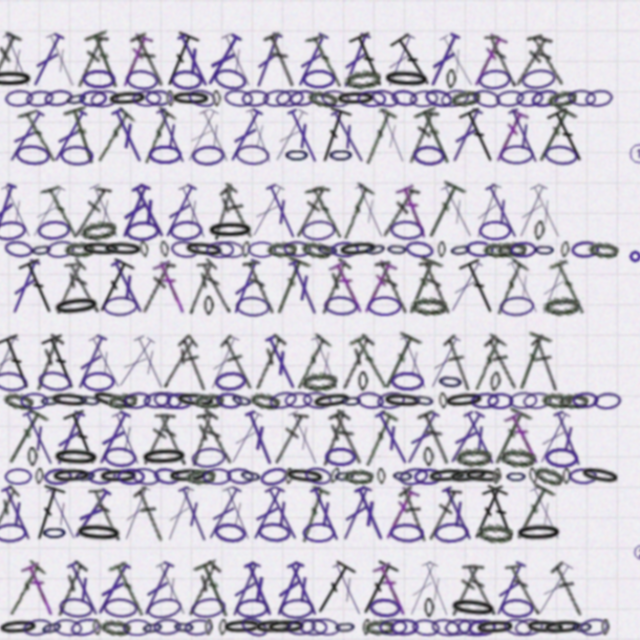chain: (70, 280, 118, 304), (448, 568, 496, 591), (106, 369, 148, 395), (91, 497, 139, 519), (385, 65, 432, 86), (154, 425, 201, 446), (572, 442, 614, 465), (70, 426, 117, 446), (511, 498, 558, 518), (96, 207, 133, 232), (7, 66, 54, 85), (217, 210, 264, 229), (223, 63, 258, 88), (447, 443, 488, 464), (348, 64, 385, 87), (160, 568, 195, 592), (195, 228, 236, 248), (317, 372, 358, 392), (291, 444, 332, 464), (517, 64, 552, 87), (76, 568, 111, 591), (202, 568, 237, 591), (56, 352, 90, 375), (342, 228, 383, 247), (67, 372, 108, 391), (187, 372, 228, 391), (443, 372, 484, 391), (427, 444, 468, 463), (248, 585, 279, 610), (538, 281, 574, 302), (307, 353, 343, 374), (454, 425, 490, 446), (14, 353, 48, 375), (203, 425, 237, 447), (122, 85, 163, 103), (18, 589, 59, 607), (537, 589, 578, 607), (528, 442, 560, 465), (140, 65, 173, 87), (539, 137, 572, 159), (14, 209, 47, 231), (224, 497, 257, 519), (385, 373, 425, 391), (496, 426, 532, 446), (462, 445, 502, 463), (473, 589, 513, 607), (521, 589, 561, 607), (35, 137, 69, 158), (392, 209, 426, 230), (329, 281, 363, 302), (434, 497, 468, 518), (119, 569, 153, 590), (475, 498, 510, 518), (476, 65, 509, 86), (245, 137, 278, 158), (56, 209, 89, 230), (182, 209, 215, 230), (308, 209, 341, 230), (119, 425, 152, 446), (266, 497, 299, 518), (541, 83, 572, 105), (97, 229, 137, 246), (118, 229, 158, 246), (245, 282, 279, 302), (69, 445, 109, 462), (180, 445, 220, 462), (287, 570, 321, 590), (232, 589, 272, 606), (262, 589, 302, 606), (274, 589, 314, 606), (225, 353, 257, 374), (372, 569, 404, 590), (412, 282, 447, 301), (373, 83, 403, 105), (470, 83, 500, 105), (203, 138, 236, 158), (140, 210, 173, 230), (119, 282, 152, 302), (497, 282, 530, 302), (267, 443, 297, 465), (392, 498, 425, 518), (245, 570, 278, 590), (449, 83, 480, 104), (183, 66, 215, 86), (183, 86, 223, 102), (340, 86, 380, 102), (78, 138, 110, 158), (414, 138, 446, 158), (540, 426, 572, 446), (114, 446, 154, 462), (15, 498, 47, 518), (498, 570, 530, 590), (424, 83, 454, 104), (276, 371, 306, 392), (87, 587, 117, 608), (497, 138, 530, 157), (371, 282, 404, 301), (313, 84, 344, 104), (307, 228, 338, 248), (23, 372, 54, 392), (122, 372, 153, 392), (258, 372, 289, 392), (199, 83, 228, 104), (440, 83, 469, 104), (526, 83, 555, 104), (310, 443, 339, 464), (99, 66, 131, 85), (309, 66, 341, 85), (162, 138, 194, 157), (477, 210, 509, 229), (99, 354, 131, 373), (393, 354, 425, 373), (309, 498, 341, 517), (326, 84, 356, 104), (400, 444, 430, 464), (42, 588, 72, 608), (431, 588, 461, 608), (330, 426, 361, 445), (106, 84, 135, 104), (226, 228, 255, 248), (406, 228, 435, 248), (145, 444, 174, 464), (500, 588, 529, 608), (437, 353, 464, 374), (166, 444, 194, 464), (62, 84, 91, 103), (234, 84, 263, 103), (24, 228, 53, 247), (64, 228, 93, 247), (166, 372, 195, 391), (309, 372, 338, 391), (379, 372, 408, 391), (294, 588, 323, 607), (317, 588, 346, 607), (581, 229, 611, 247), (205, 373, 235, 391), (197, 445, 227, 463), (116, 589, 146, 607), (271, 84, 299, 103), (283, 84, 311, 103), (296, 84, 324, 103), (512, 84, 540, 103), (578, 84, 606, 103), (183, 228, 211, 247), (138, 372, 166, 391), (157, 372, 185, 391), (360, 372, 388, 391), (444, 588, 472, 607), (511, 588, 539, 607), (573, 588, 601, 607), (239, 371, 264, 392), (71, 589, 100, 607), (393, 84, 420, 103), (45, 85, 73, 103), (411, 85, 439, 103), (493, 85, 521, 103), (469, 373, 497, 391), (519, 373, 547, 391), (586, 373, 614, 391), (62, 445, 90, 463), (236, 445, 264, 463), (196, 589, 224, 607), (413, 589, 441, 607), (456, 589, 484, 607), (466, 589, 494, 607), (58, 588, 83, 608), (291, 138, 317, 157), (333, 138, 359, 157), (60, 498, 86, 517), (82, 229, 111, 246), (275, 229, 304, 246), (494, 229, 523, 246), (537, 373, 566, 390), (368, 589, 397, 606), (226, 373, 253, 391), (82, 84, 106, 104), (25, 85, 53, 102), (464, 229, 492, 246), (104, 445, 132, 462), (481, 230, 510, 246), (553, 374, 582, 390), (348, 446, 377, 462), (96, 85, 123, 102), (159, 85, 186, 102), (251, 85, 278, 102), (562, 85, 589, 102), (291, 229, 318, 246), (565, 229, 592, 246), (292, 373, 319, 390), (506, 373, 533, 390), (167, 589, 194, 606), (306, 589, 333, 606), (382, 589, 409, 606), (393, 589, 420, 606), (367, 228, 391, 247), (95, 372, 119, 391), (413, 372, 437, 391), (248, 444, 272, 463), (147, 86, 175, 102), (361, 86, 389, 102), (214, 446, 242, 462), (138, 590, 166, 606), (566, 373, 592, 390), (217, 230, 244, 246), (257, 230, 284, 246), (336, 230, 363, 246), (448, 229, 472, 247), (40, 374, 67, 390), (25, 446, 52, 462), (132, 446, 159, 462), (415, 446, 442, 462), (563, 446, 590, 462), (507, 230, 533, 246), (179, 374, 205, 390), (485, 374, 511, 390), (49, 229, 72, 247), (322, 229, 345, 247), (155, 589, 178, 607), (388, 229, 411, 246), (58, 373, 81, 390), (91, 445, 114, 462), (338, 445, 361, 462), (185, 589, 208, 606), (394, 445, 416, 462), (339, 589, 361, 606), (565, 589, 587, 606), (529, 230, 551, 246), (345, 374, 367, 390), (502, 446, 524, 462), (529, 210, 541, 230), (487, 354, 499, 374), (424, 426, 435, 445), (334, 445, 346, 462), (446, 66, 456, 85), (215, 282, 225, 301), (362, 354, 372, 373), (47, 426, 57, 445), (425, 570, 435, 589), (153, 229, 164, 246), (524, 445, 535, 462), (173, 229, 183, 246), (179, 86, 188, 102), (223, 86, 232, 102), (251, 230, 260, 246), (555, 230, 564, 246), (439, 374, 448, 390), (54, 446, 63, 462), (292, 446, 301, 462), (380, 446, 389, 462), (490, 446, 499, 462), (109, 590, 118, 606), (229, 590, 238, 606), (366, 590, 375, 606), (438, 230, 446, 246), (557, 446, 565, 462), (216, 590, 224, 606), (594, 590, 602, 606)
double: (391, 29, 440, 87), (21, 388, 68, 447), (315, 532, 362, 591), (526, 100, 572, 159), (505, 460, 551, 519), (421, 172, 466, 231), (379, 316, 424, 375), (484, 388, 529, 447), (358, 532, 403, 591), (415, 100, 459, 160), (106, 101, 152, 158), (541, 100, 585, 159), (107, 244, 151, 303), (205, 532, 248, 592), (127, 318, 173, 374), (85, 462, 131, 518), (22, 533, 67, 590), (352, 28, 395, 87), (457, 100, 500, 159), (37, 244, 80, 303), (457, 244, 500, 303), (464, 460, 507, 519), (443, 389, 487, 446), (101, 28, 143, 87), (171, 28, 213, 87), (276, 244, 318, 303), (402, 244, 444, 303), (59, 316, 101, 375), (23, 102, 67, 158), (527, 534, 571, 590), (212, 29, 255, 86), (37, 101, 80, 158), (254, 173, 297, 230), (443, 245, 486, 302), (296, 317, 339, 374), (352, 317, 395, 374), (107, 533, 150, 590), (311, 29, 353, 87), (59, 173, 101, 231), (311, 173, 353, 231), (360, 389, 402, 447), (17, 316, 58, 375), (507, 316, 548, 375), (80, 388, 121, 447), (479, 460, 520, 519), (436, 30, 479, 86), (192, 101, 234, 158), (276, 101, 318, 158), (374, 389, 416, 446), (402, 389, 444, 446), (213, 461, 255, 518), (269, 461, 311, 518), (150, 101, 191, 159), (360, 101, 401, 159), (486, 245, 527, 303), (465, 317, 506, 375), (66, 102, 108, 158), (332, 102, 374, 158), (45, 174, 87, 230), (45, 29, 86, 86), (234, 101, 275, 158), (143, 173, 184, 230), (437, 173, 478, 230), (500, 245, 541, 302), (101, 317, 142, 374), (108, 389, 149, 446), (234, 389, 275, 446), (500, 389, 541, 446), (528, 389, 569, 446), (255, 461, 296, 518), (340, 173, 380, 231), (543, 245, 583, 303), (123, 533, 163, 591), (81, 100, 120, 159), (319, 100, 358, 159), (144, 29, 184, 86), (186, 29, 226, 86), (298, 29, 338, 86), (424, 29, 464, 86), (466, 29, 506, 86), (123, 101, 163, 158), (445, 101, 485, 158), (172, 173, 212, 230), (480, 173, 520, 230), (522, 173, 562, 230), (123, 245, 163, 302), (333, 245, 373, 302), (361, 245, 401, 302), (144, 317, 184, 374), (424, 317, 464, 374), (333, 389, 373, 446), (459, 389, 499, 446), (60, 461, 100, 518), (382, 461, 422, 518), (438, 461, 478, 518), (81, 533, 121, 590), (151, 533, 191, 590), (165, 533, 205, 590), (333, 533, 373, 590), (186, 173, 225, 231), (214, 317, 253, 375), (123, 389, 162, 447), (312, 461, 351, 519), (235, 533, 274, 591), (47, 460, 85, 519), (4, 29, 43, 86), (228, 29, 267, 86), (207, 101, 246, 158), (291, 101, 330, 158), (487, 101, 526, 158), (18, 173, 57, 230), (102, 173, 141, 230), (508, 173, 547, 230), (165, 245, 204, 302), (88, 317, 127, 374), (270, 317, 309, 374), (39, 389, 78, 446), (18, 461, 57, 518), (522, 461, 561, 518), (291, 533, 330, 590), (375, 533, 414, 590), (487, 533, 526, 590), (381, 175, 422, 229), (383, 29, 421, 87), (292, 245, 330, 303), (313, 317, 351, 375), (68, 389, 106, 447), (544, 389, 582, 447), (187, 461, 225, 519), (299, 461, 337, 519), (88, 174, 128, 229), (193, 534, 233, 589), (171, 319, 212, 372), (61, 29, 99, 86), (271, 29, 309, 86), (166, 101, 204, 158), (502, 101, 540, 158), (271, 173, 309, 230), (355, 173, 393, 230), (5, 317, 43, 374), (292, 389, 330, 446), (418, 389, 456, 446), (341, 461, 379, 518), (355, 461, 393, 518), (40, 533, 78, 590), (404, 533, 442, 590), (508, 31, 548, 85), (341, 29, 378, 87), (530, 245, 567, 303), (173, 461, 210, 519), (228, 174, 267, 229), (228, 318, 267, 373), (340, 318, 379, 373), (480, 318, 519, 373), (19, 29, 56, 86), (131, 29, 168, 86), (131, 173, 168, 230), (397, 173, 434, 230), (26, 245, 63, 302), (250, 389, 287, 446), (229, 461, 266, 518), (250, 533, 287, 590), (278, 533, 315, 590), (523, 30, 561, 85), (257, 318, 295, 373), (278, 390, 316, 445), (68, 534, 106, 589), (208, 390, 245, 446), (425, 462, 462, 518), (258, 29, 294, 86), (377, 101, 413, 158), (237, 245, 273, 302), (398, 317, 434, 374), (132, 461, 168, 518), (419, 533, 455, 590), (299, 174, 336, 229), (82, 246, 119, 301), (152, 246, 189, 301), (208, 246, 245, 301), (320, 246, 357, 301), (5, 462, 42, 517), (502, 534, 539, 589), (544, 534, 581, 589), (153, 390, 189, 446), (146, 462, 182, 518), (447, 534, 483, 590), (251, 101, 286, 158), (468, 173, 503, 230), (69, 246, 105, 301), (461, 534, 497, 589), (90, 30, 125, 86), (48, 318, 83, 374), (188, 318, 223, 374), (321, 390, 356, 446), (7, 173, 41, 230), (482, 30, 517, 85), (195, 246, 230, 301), (406, 102, 440, 158), (378, 246, 412, 302), (441, 318, 475, 374), (168, 390, 202, 446), (196, 390, 230, 446), (105, 462, 139, 518), (399, 462, 433, 518), (252, 246, 285, 302), (420, 246, 453, 302), (525, 318, 558, 374), (219, 174, 249, 230)
noise: (619, 135, 640, 158), (623, 517, 640, 536), (620, 238, 633, 251)
